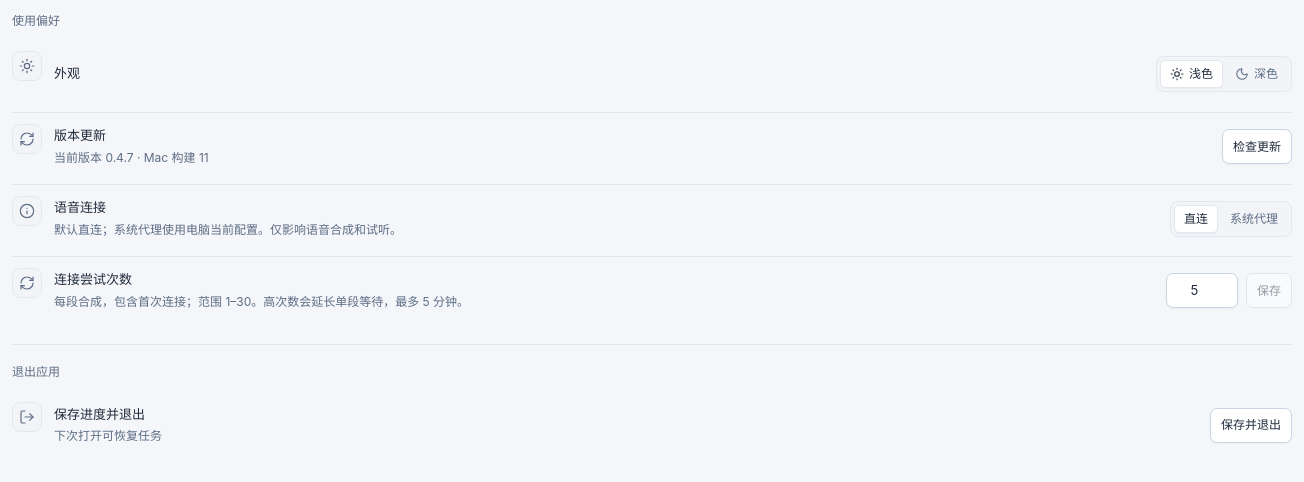
defaults to five connection attempts and persists a changed limit
The width and height of the screenshot is (1304, 482).
Step 1. Replace the text in the number field labelled "连接尝试次数" with "30" → (1202, 290), box [1166, 273, 1238, 308]
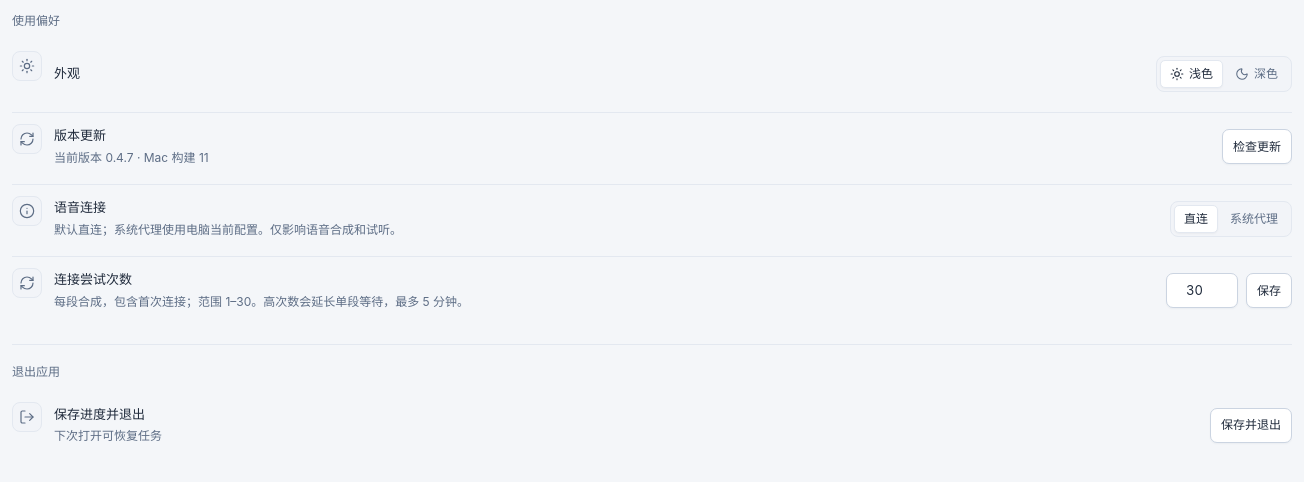
Step 2. Click the button "保存" → click(1269, 290), box [1246, 273, 1292, 308]
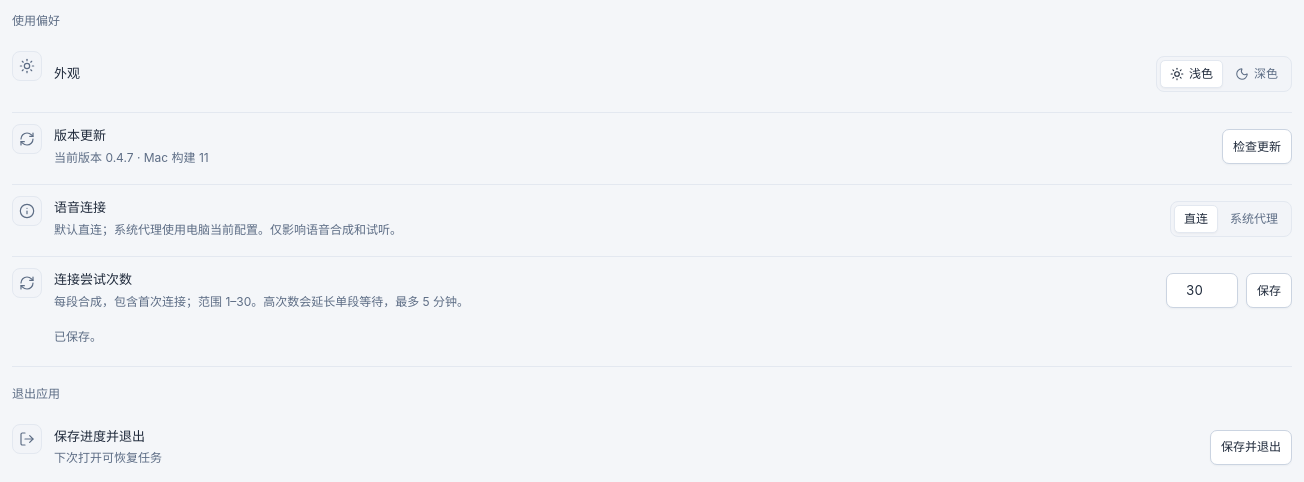
Expected: the message reads "已保存。", [54, 329, 102, 344]
